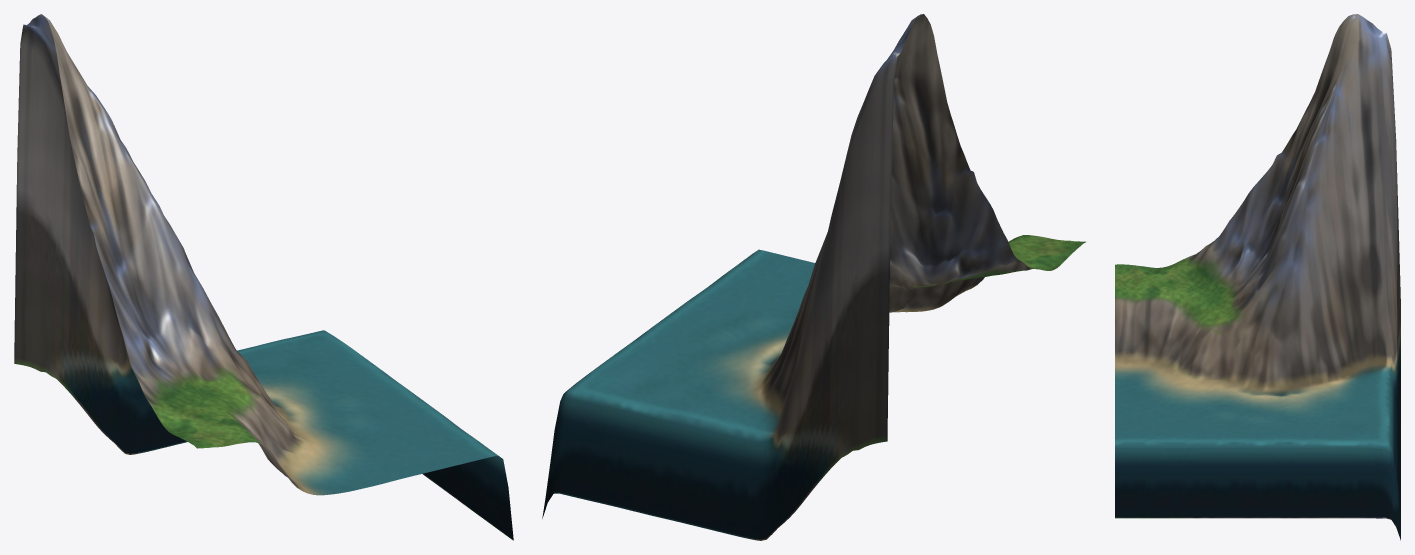
3 renders of one model, left to right at view 1: azimuth 30°, elevation 25°; view 2: azimuth 150°, elevation 25°; view 3: azimuth 270°, elevation 25°, orthographic. The views are drawn at different scales.
Visible parts, largest first — view 1: t192_192; view 2: t192_192; view 3: t192_192.
Boxes of the visible parts, left/top/right/bottom form: t192_192: left=14, top=14, right=513, bottom=540; t192_192: left=542, top=14, right=1085, bottom=540; t192_192: left=1115, top=14, right=1400, bottom=540.
Size of the model in its own units: 64 by 100 by 64.
Materials: 1 (1 with a texture image).
